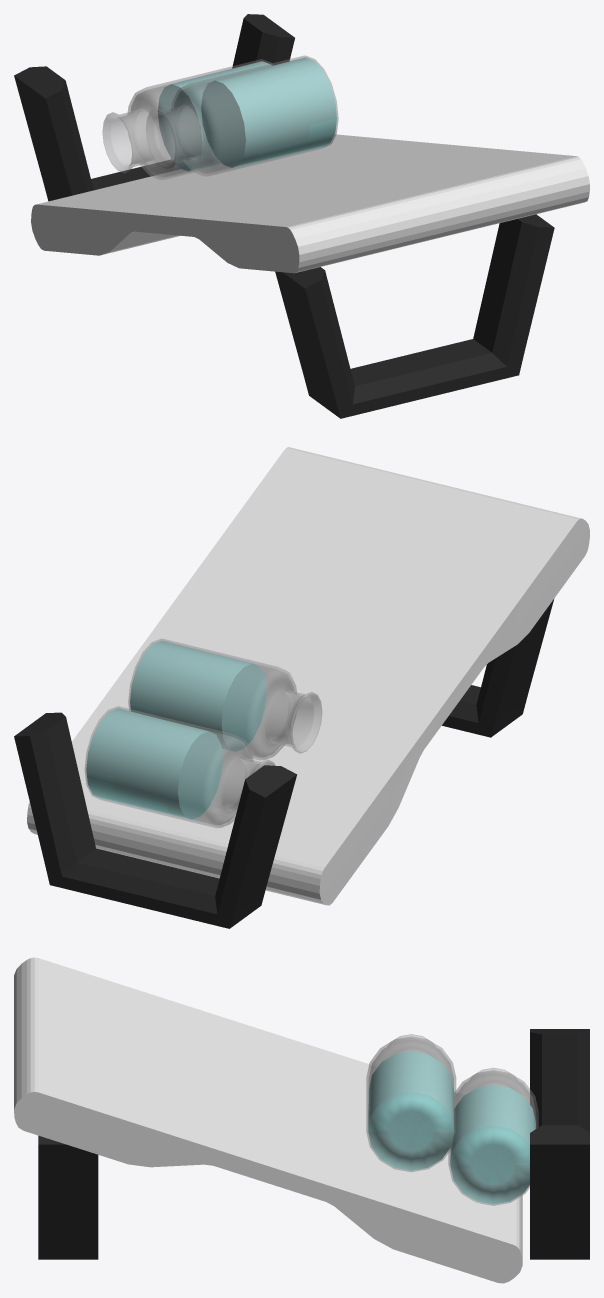
The model's file is Destroyed_small_science_table.fbx.
The picture shows the model from 3 angles, top to bottom: view 1: azimuth 30°, elevation 25°; view 2: azimuth 150°, elevation 25°; view 3: azimuth 270°, elevation 25°; orthographic projection. The views are drawn at different scales.
Parts seen in each view (by area): view 1: polySurface876, polySurface796, polySurface2874, polySurface888, polySurface2873; view 2: polySurface876, polySurface888, polySurface2873, polySurface2874, polySurface796; view 3: polySurface876, polySurface888, polySurface2874, polySurface2873, polySurface796.
Part boxes in pixels (left/top/right/bottom): polySurface876: left=31, top=134, right=589, bottom=273; polySurface796: left=275, top=214, right=554, bottom=418; polySurface2874: left=146, top=55, right=338, bottom=176; polySurface888: left=14, top=14, right=294, bottom=201; polySurface2873: left=102, top=59, right=272, bottom=179; polySurface876: left=27, top=447, right=589, bottom=905; polySurface888: left=14, top=712, right=297, bottom=928; polySurface2873: left=84, top=706, right=275, bottom=828; polySurface2874: left=128, top=638, right=322, bottom=760; polySurface796: left=442, top=599, right=553, bottom=737; polySurface876: left=14, top=957, right=522, bottom=1283; polySurface888: left=530, top=1029, right=589, bottom=1259; polySurface2874: left=366, top=1034, right=456, bottom=1172; polySurface2873: left=448, top=1067, right=538, bottom=1205; polySurface796: left=38, top=1135, right=98, bottom=1259.
Bounding box in the file's own units: 1.41 × 0.954 × 2.56.
